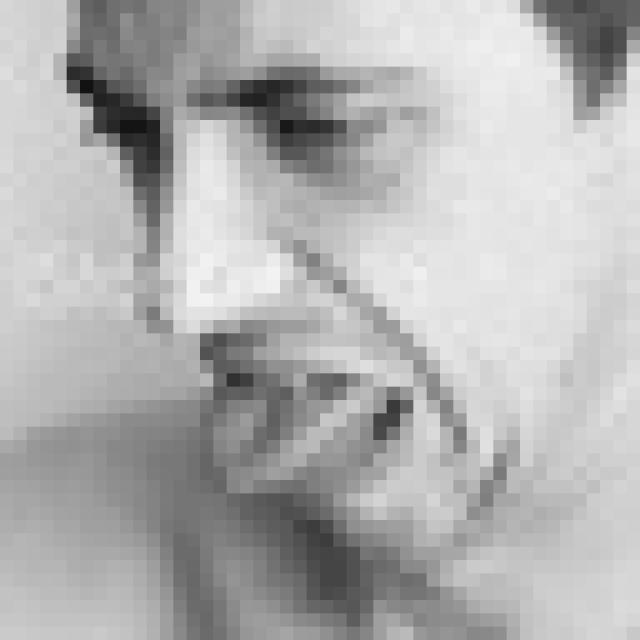disgust: (69, 59, 524, 527)
